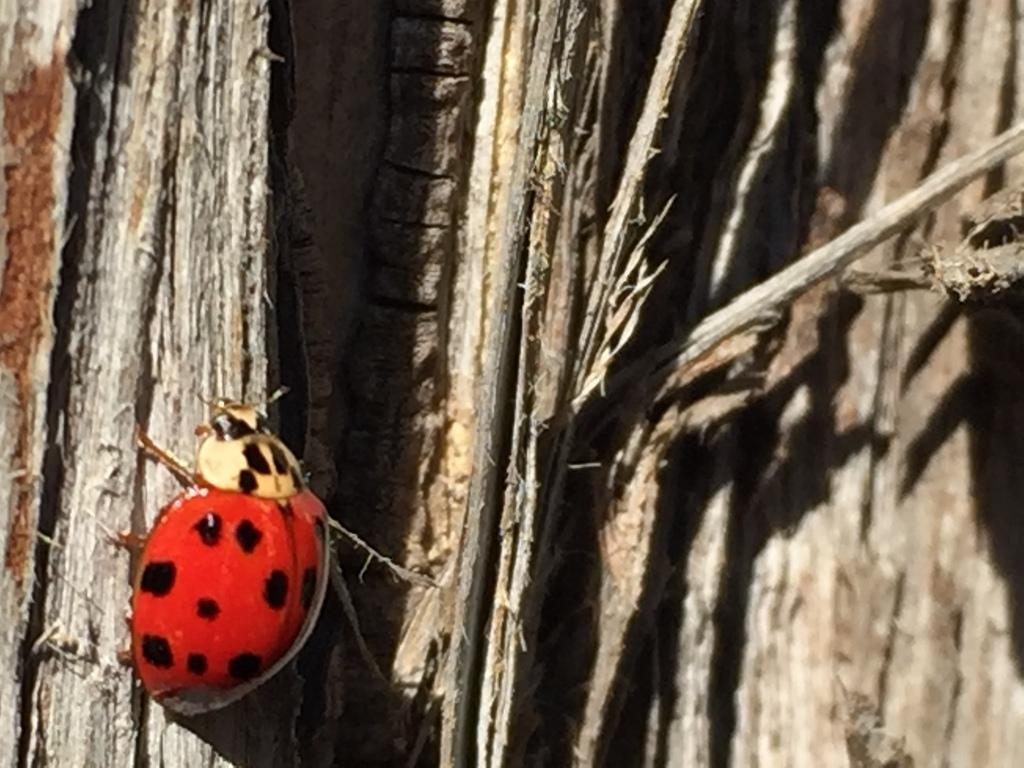ladybug: (105, 381, 337, 719)
